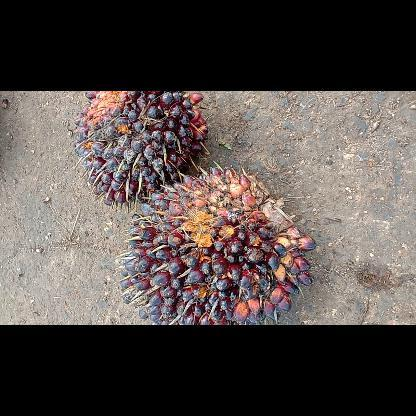Kurang masak: (117, 166, 318, 324), (69, 90, 211, 208)
